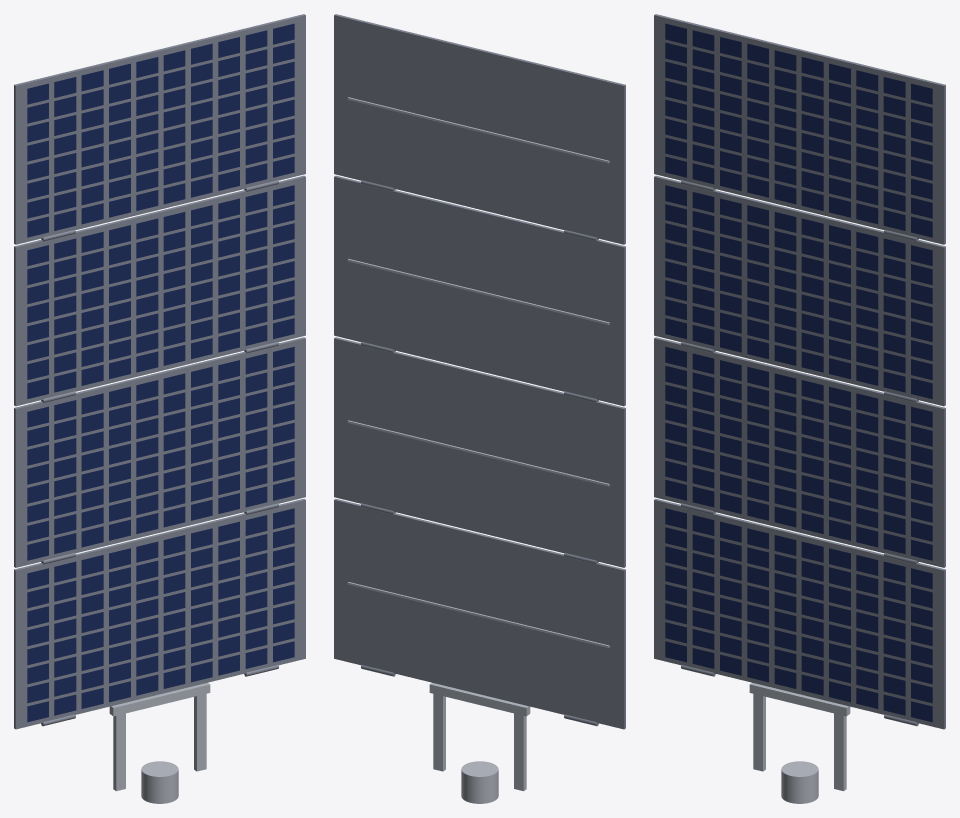
The model's file is pan4500.glb.
3 renders of one model, left to right at view 1: azimuth 30°, elevation 25°; view 2: azimuth 150°, elevation 25°; view 3: azimuth 330°, elevation 25°, orthographic.
Visible parts, largest first — view 1: pan4500, pan4500_motor, pan4500_yugo_beam, pan4500_yugo_s2, pan4500_yugo_s1; view 2: pan4500, pan4500_motor, pan4500_yugo_beam, pan4500_yugo_s2, pan4500_yugo_s1; view 3: pan4500, pan4500_motor, pan4500_yugo_beam, pan4500_yugo_s1, pan4500_yugo_s2.
Part boxes in pixels (x1,y1,x2,y2): pan4500: (14, 14, 305, 729); pan4500_motor: (141, 761, 178, 803); pan4500_yugo_beam: (109, 682, 210, 716); pan4500_yugo_s2: (194, 694, 206, 771); pan4500_yugo_s1: (113, 713, 125, 791); pan4500: (334, 14, 625, 729); pan4500_motor: (461, 761, 498, 803); pan4500_yugo_beam: (429, 682, 530, 716); pan4500_yugo_s2: (433, 694, 445, 771); pan4500_yugo_s1: (514, 713, 526, 791); pan4500: (654, 14, 945, 729); pan4500_motor: (781, 761, 818, 803); pan4500_yugo_beam: (749, 682, 850, 716); pan4500_yugo_s1: (753, 694, 765, 771); pan4500_yugo_s2: (834, 713, 846, 791).
Bounding box in the file's own units: 1.8 × 4.42 × 0.2.
